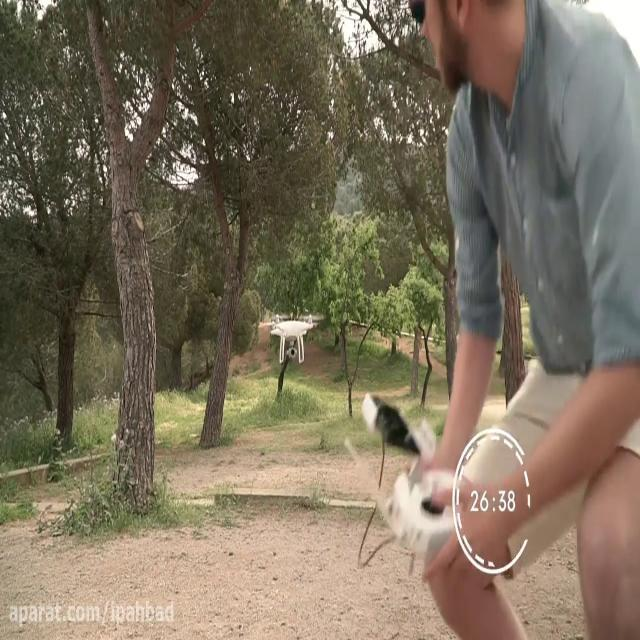drone: (262, 310, 326, 366)
